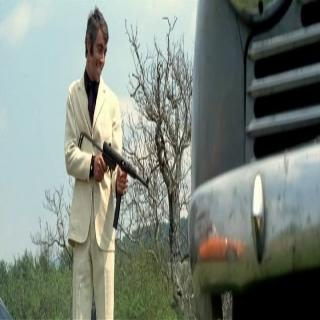gun: (76, 123, 150, 252)
